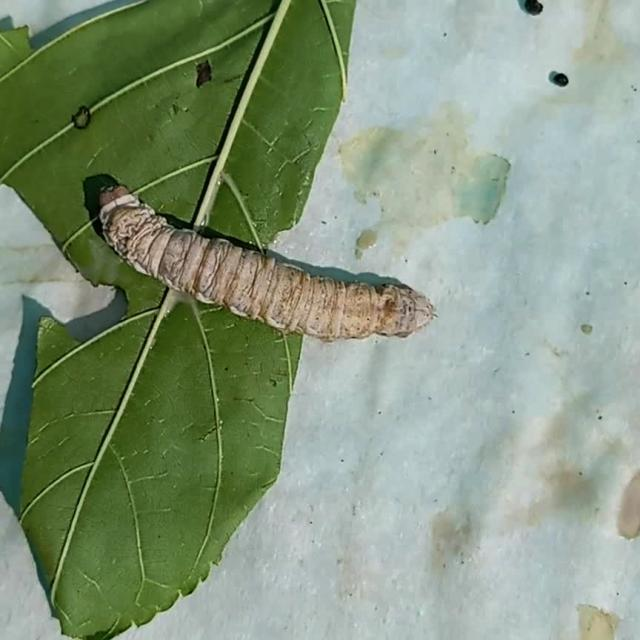Grasserie: (89, 174, 446, 359)
